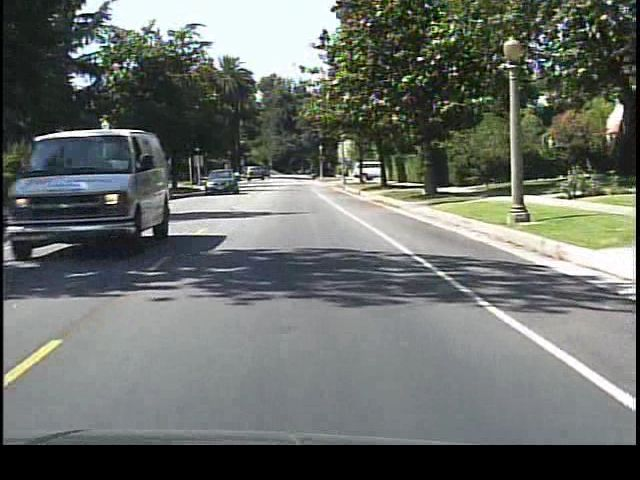car: (1, 136, 181, 273), (203, 168, 240, 197)
strada: (10, 184, 635, 451)
